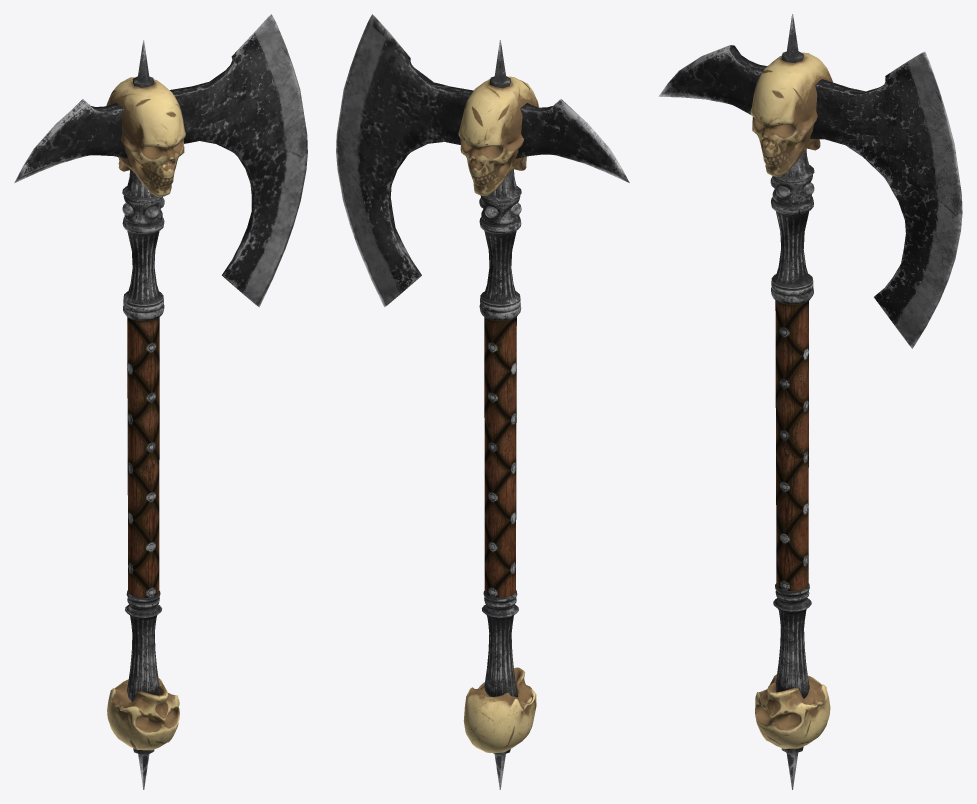
The model's file is axe.obj.
3 renders of one model, left to right at view 1: azimuth 30°, elevation 25°; view 2: azimuth 150°, elevation 25°; view 3: azimuth 330°, elevation 25°, orthographic. The views are drawn at different scales.
Visible parts, largest first — view 1: skull_axe_Mesh; view 2: skull_axe_Mesh; view 3: skull_axe_Mesh.
Boxes of the visible parts, x1,y1,x2,y2 form: skull_axe_Mesh: (14, 14, 307, 789); skull_axe_Mesh: (336, 14, 629, 789); skull_axe_Mesh: (658, 14, 962, 789).
Size of the model in its own units: 4.48 by 10.91 by 1.47.
1 material, 1 textured.
